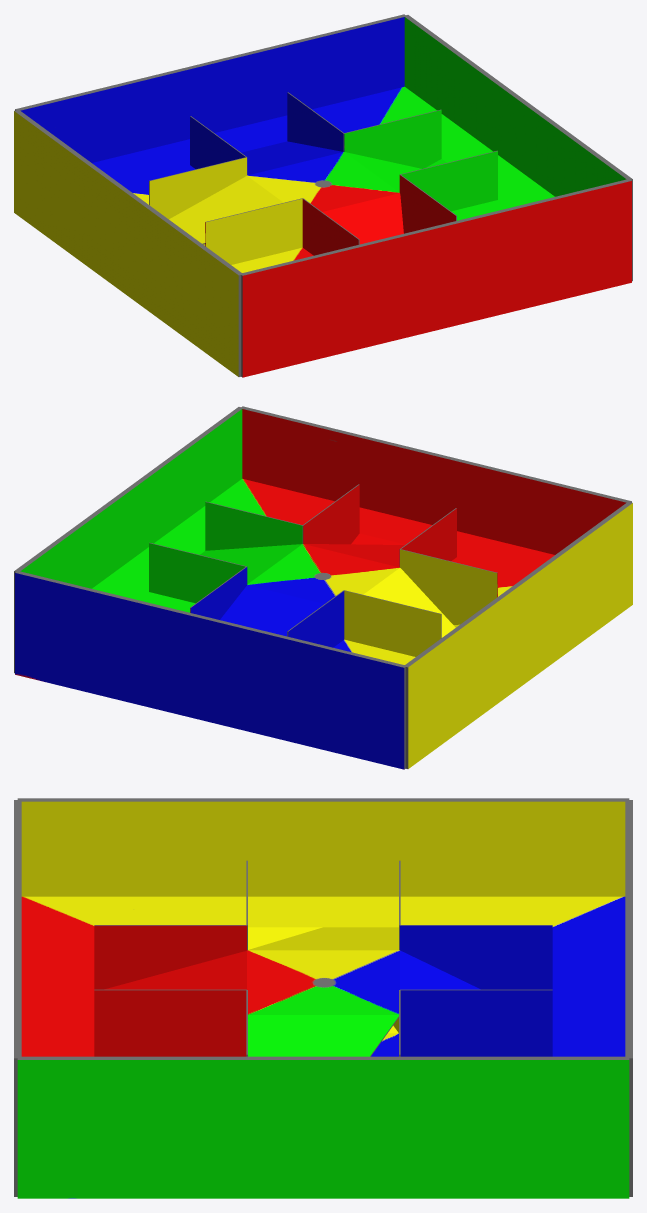
File: Map001.FBX
3 views of the same model, one above another, from view 1: azimuth 30°, elevation 25°; view 2: azimuth 150°, elevation 25°; view 3: azimuth 270°, elevation 25° (orthographic). The views are drawn at different scales.
Visible parts, largest first — view 1: big_wall001, wall001, stlike_up, grand; view 2: big_wall001, wall001, stlike_up, grand; view 3: big_wall001, grand, wall001, stlike_up, stlike_down.
Part boxes in pixels (x1,y1,x2,y2): big_wall001: [14, 14, 632, 377]; wall001: [149, 92, 497, 264]; stlike_up: [169, 141, 421, 244]; grand: [92, 86, 554, 272]; big_wall001: [14, 406, 632, 769]; wall001: [149, 484, 497, 656]; stlike_up: [200, 544, 455, 637]; grand: [92, 478, 554, 664]; big_wall001: [14, 798, 632, 1198]; grand: [21, 896, 625, 1056]; wall001: [94, 860, 552, 1056]; stlike_up: [104, 927, 480, 1056]; stlike_down: [248, 927, 398, 1056].
Size of the model in its own units: 2025 by 503 by 2025.
